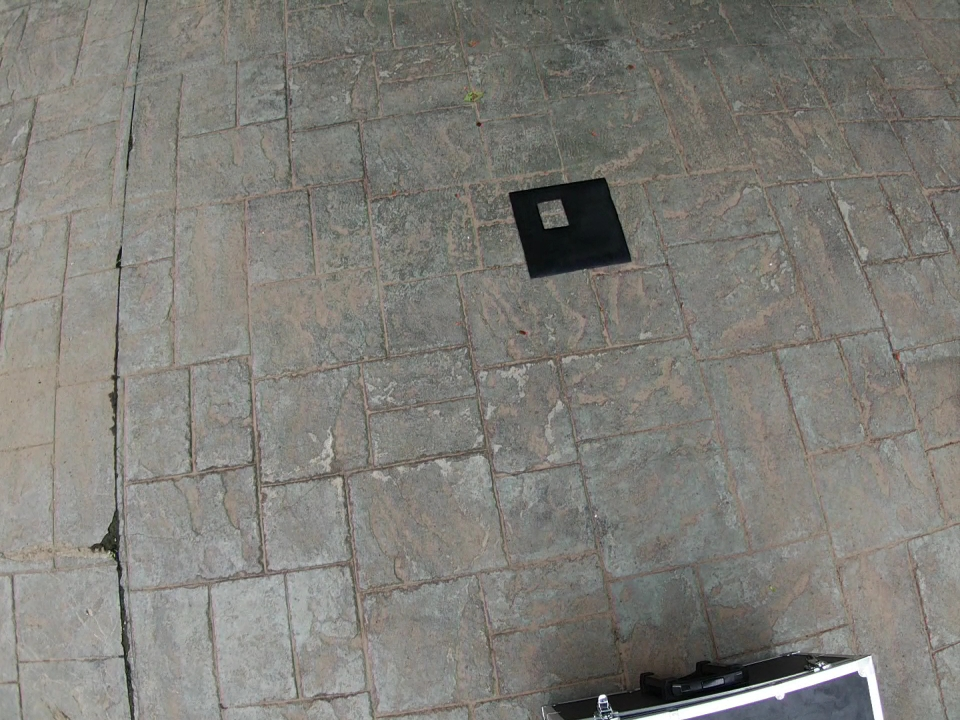qrcode: (509, 178, 632, 279)
